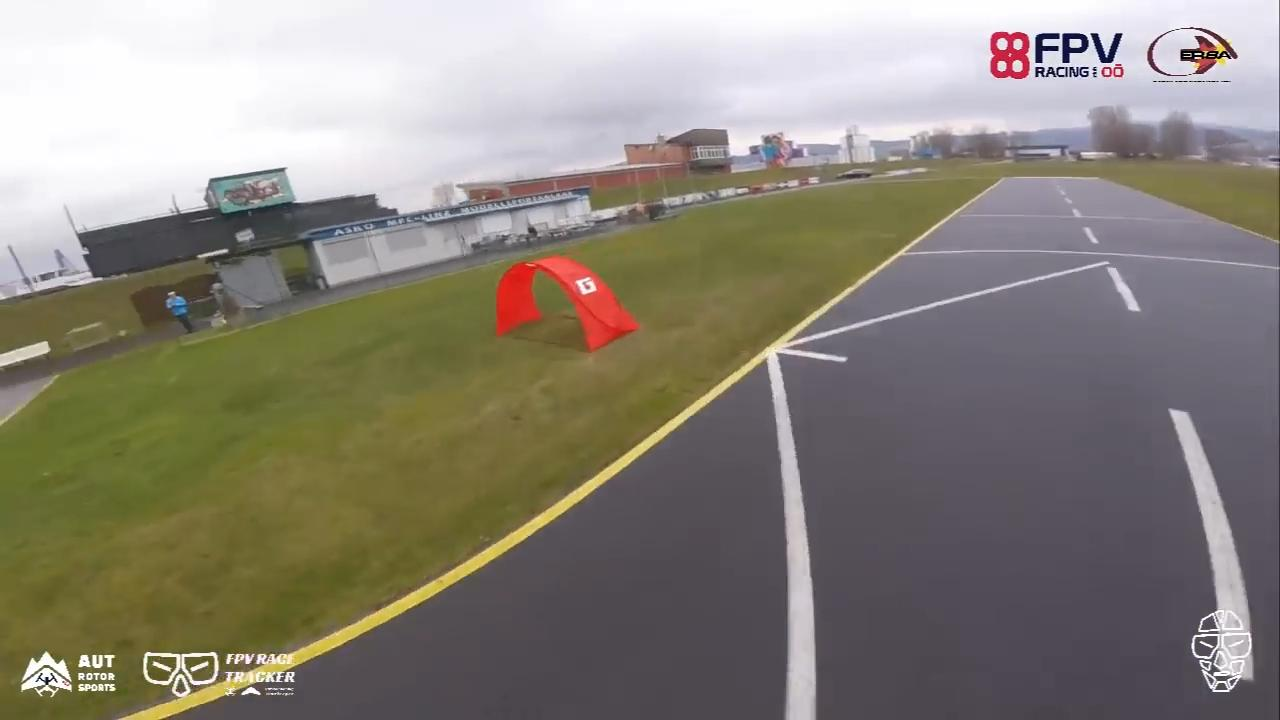gate: (492, 254, 640, 355)
